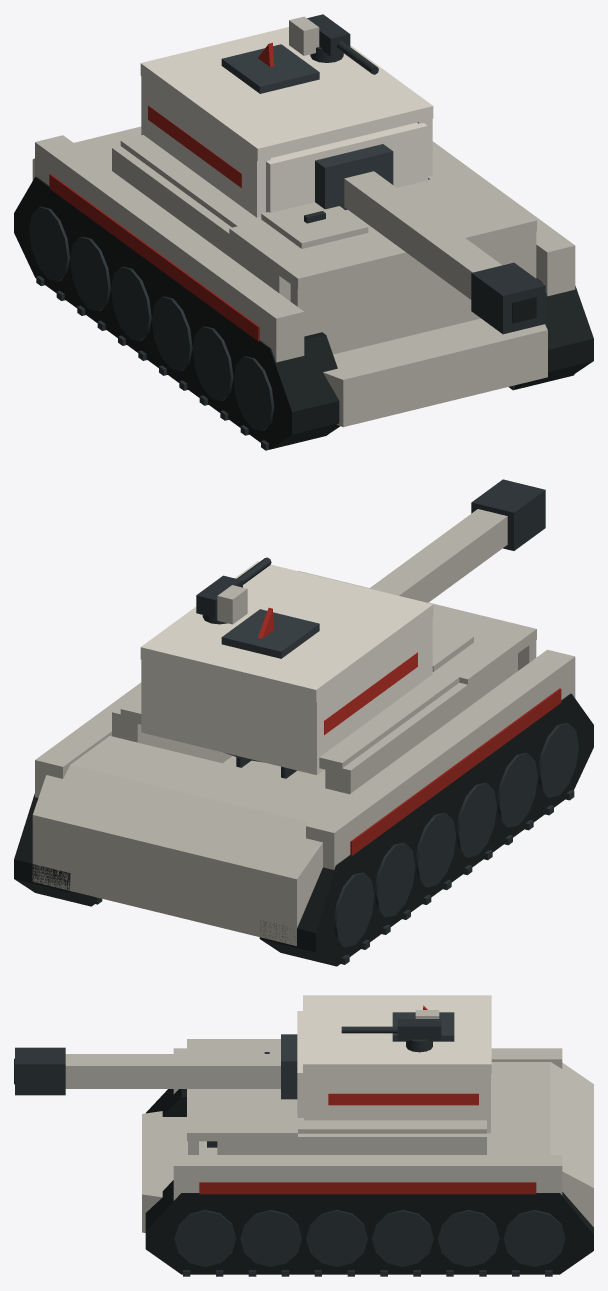
3 views of the same model, one above another, from view 1: azimuth 30°, elevation 25°; view 2: azimuth 150°, elevation 25°; view 3: azimuth 270°, elevation 25° (orthographic). The views are drawn at different scales.
Visible parts, largest first — view 1: tank-painted, turret-fleet-armor, breakaway-0-painted, cannon-recoil-painted, breakaway-1-painted, barrel-fleet-machine, turret-fleet-machine, machine-gun-pitch-painted, turret-fleet-red; view 2: tank-painted, turret-fleet-armor, breakaway-0-painted, cannon-recoil-painted, breakaway-1-painted, turret-fleet-machine, machine-gun-pitch-painted, turret-fleet-red; view 3: tank-painted, turret-fleet-armor, breakaway-1-painted, cannon-recoil-painted, turret-fleet-red, machine-gun-pitch-painted, breakaway-0-painted, barrel-fleet-machine, turret-fleet-machine, machine-gun-recoil-painted.
Boxes of the visible parts, x1,y1,x2,y2 form: tank-painted: [14, 126, 593, 450]; turret-fleet-armor: [140, 27, 433, 217]; breakaway-0-painted: [35, 135, 304, 362]; cannon-recoil-painted: [344, 171, 545, 334]; breakaway-1-painted: [432, 141, 575, 296]; barrel-fleet-machine: [315, 144, 393, 210]; turret-fleet-machine: [221, 44, 319, 93]; machine-gun-pitch-painted: [289, 14, 350, 56]; turret-fleet-red: [148, 42, 274, 188]; tank-painted: [14, 570, 593, 966]; turret-fleet-armor: [140, 561, 433, 774]; breakaway-0-painted: [306, 649, 575, 869]; cannon-recoil-painted: [369, 479, 545, 602]; breakaway-1-painted: [35, 682, 141, 797]; turret-fleet-machine: [221, 609, 319, 658]; machine-gun-pitch-painted: [196, 575, 247, 624]; turret-fleet-red: [258, 608, 417, 734]; tank-painted: [142, 1039, 593, 1276]; turret-fleet-armor: [297, 995, 491, 1133]; breakaway-1-painted: [173, 1155, 562, 1200]; cannon-recoil-painted: [14, 1047, 280, 1095]; turret-fleet-red: [328, 1005, 478, 1105]; machine-gun-pitch-painted: [397, 1010, 441, 1040]; breakaway-0-painted: [173, 1048, 562, 1094]; barrel-fleet-machine: [281, 1034, 297, 1099]; turret-fleet-machine: [392, 1012, 454, 1041]; machine-gun-recoil-painted: [341, 1026, 397, 1033].
Size of the model in its own units: 21.11 by 17.61 by 42.63.
